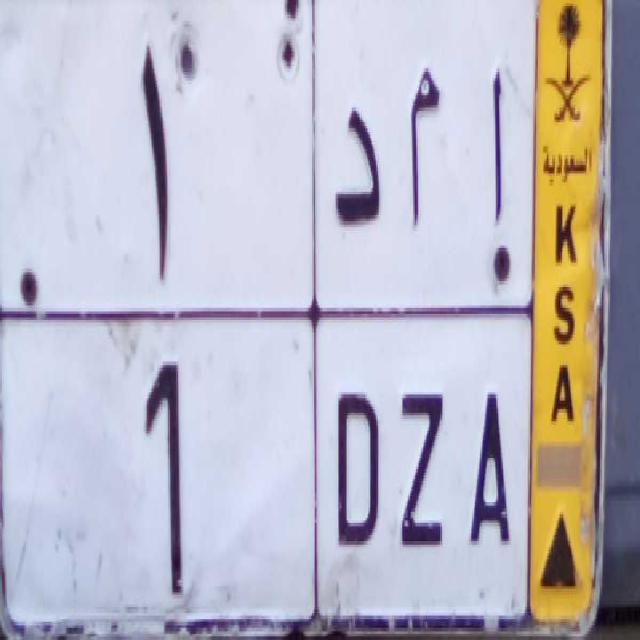license_plate: (22, 317, 526, 625)
